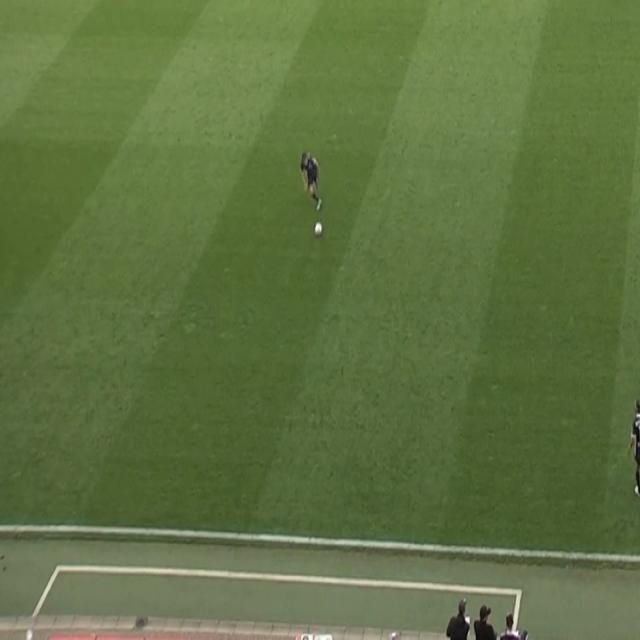ball: (314, 219, 323, 238)
